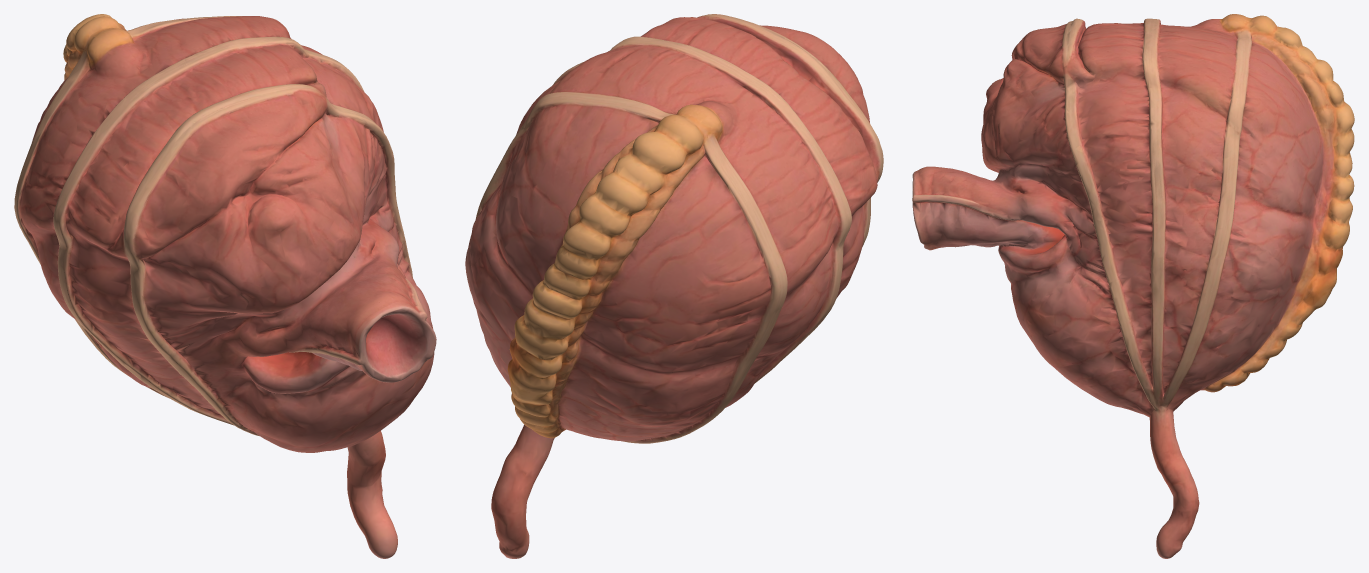
Rendered from appendix.glb.
3 renders of one model, left to right at view 1: azimuth 30°, elevation 25°; view 2: azimuth 150°, elevation 25°; view 3: azimuth 270°, elevation 25°, orthographic. The views are drawn at different scales.
Parts seen in each view (by area): view 1: tripo_node_63100137-8d35-479b-a954-71f1710295c2; view 2: tripo_node_63100137-8d35-479b-a954-71f1710295c2; view 3: tripo_node_63100137-8d35-479b-a954-71f1710295c2.
Part boxes in pixels (x1,y1,x2,y2): tripo_node_63100137-8d35-479b-a954-71f1710295c2: (14, 14, 436, 558); tripo_node_63100137-8d35-479b-a954-71f1710295c2: (465, 14, 883, 558); tripo_node_63100137-8d35-479b-a954-71f1710295c2: (912, 14, 1354, 558).
Bounding box in the file's own units: 0.6511 × 1 × 0.8752.
Materials: 1 (1 with a texture image).
